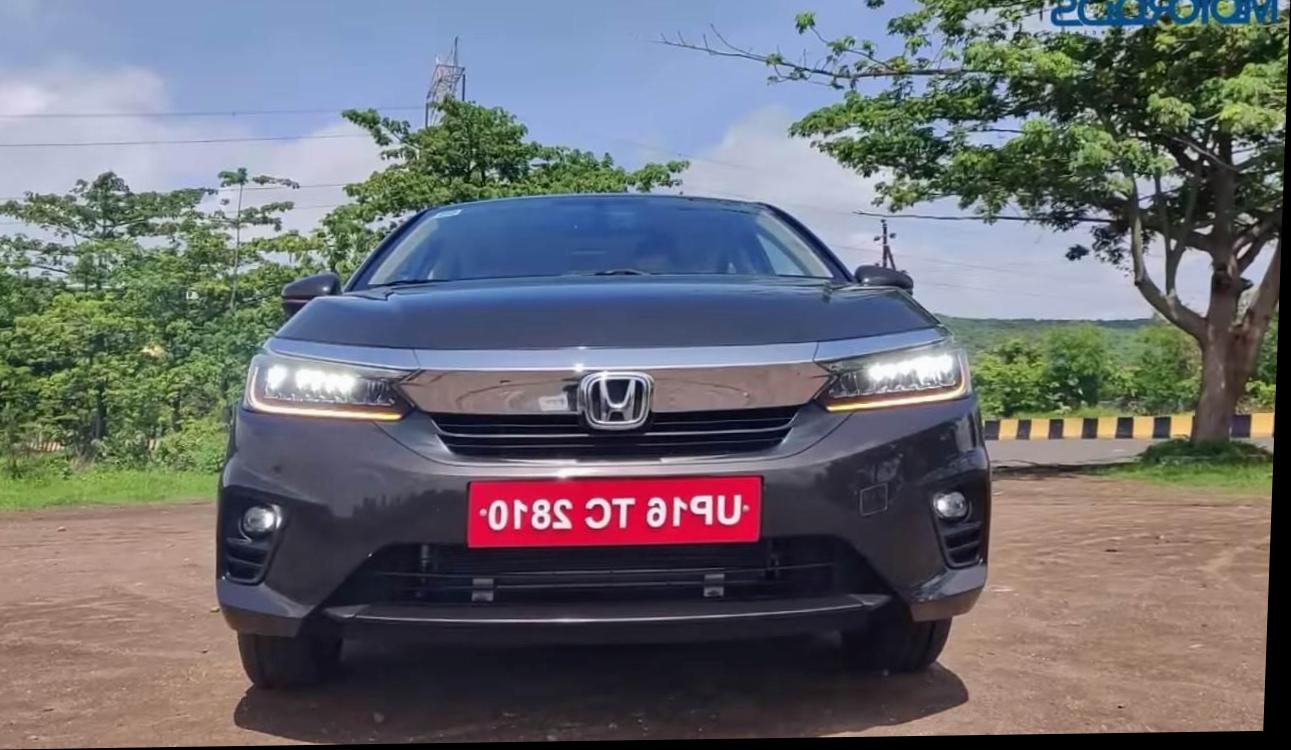License_Plate: (454, 461, 773, 557)
